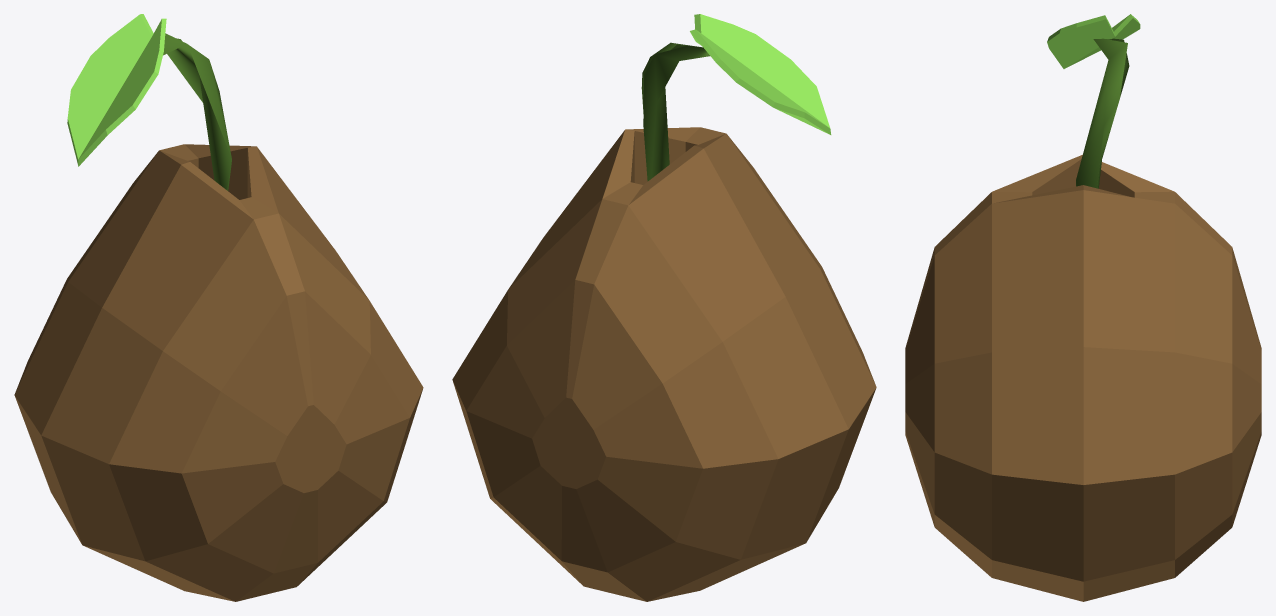
The model's file is Seed.glb.
3 views of the same model, side by side, from view 1: azimuth 30°, elevation 25°; view 2: azimuth 150°, elevation 25°; view 3: azimuth 270°, elevation 25° (orthographic). The views are drawn at different scales.
Visible parts, largest first — view 1: Plane, Plane.001, BézierCurve; view 2: Plane, Plane.001, BézierCurve; view 3: Plane, BézierCurve, Plane.001.
Part boxes in pixels (left/top/right/bottom): Plane: left=14, top=144, right=423, bottom=601; Plane.001: left=67, top=14, right=166, bottom=166; BézierCurve: left=163, top=33, right=231, bottom=190; Plane: left=452, top=127, right=876, bottom=601; Plane.001: left=690, top=14, right=831, bottom=134; BézierCurve: left=641, top=42, right=709, bottom=181; Plane: left=905, top=155, right=1261, bottom=601; BézierCurve: left=1076, top=38, right=1129, bottom=188; Plane.001: left=1047, top=14, right=1140, bottom=68.
Size of the model in its own units: 0.2949 by 0.4495 by 0.2642.
